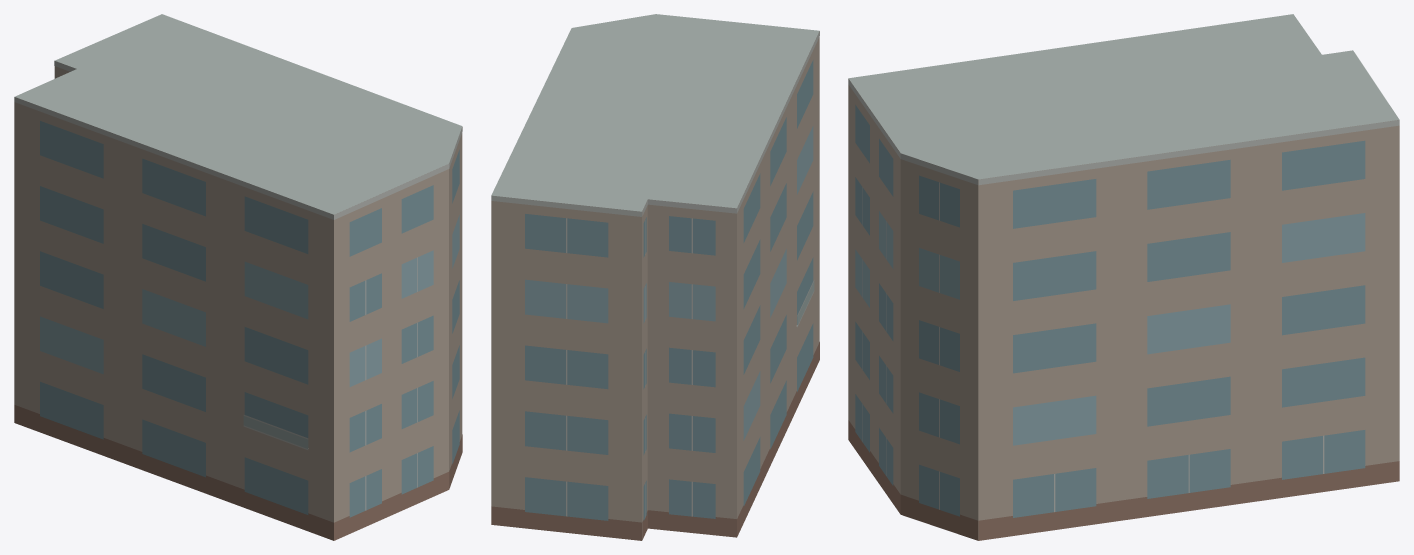
File: survey-upis-32952748.glb
3 views of the same model, side by side, from view 1: azimuth 30°, elevation 25°; view 2: azimuth 150°, elevation 25°; view 3: azimuth 270°, elevation 25° (orthographic). The views are drawn at different scales.
Visible parts, largest first — view 1: survey-upis-32952748.tmp; view 2: survey-upis-32952748.tmp; view 3: survey-upis-32952748.tmp.
Boxes of the visible parts, x1,y1,x2,y2 form: survey-upis-32952748.tmp: (14,14,462,540); survey-upis-32952748.tmp: (491,14,819,540); survey-upis-32952748.tmp: (848,14,1399,540).
Size of the model in its own units: 14.84 by 15.1 by 20.88.
